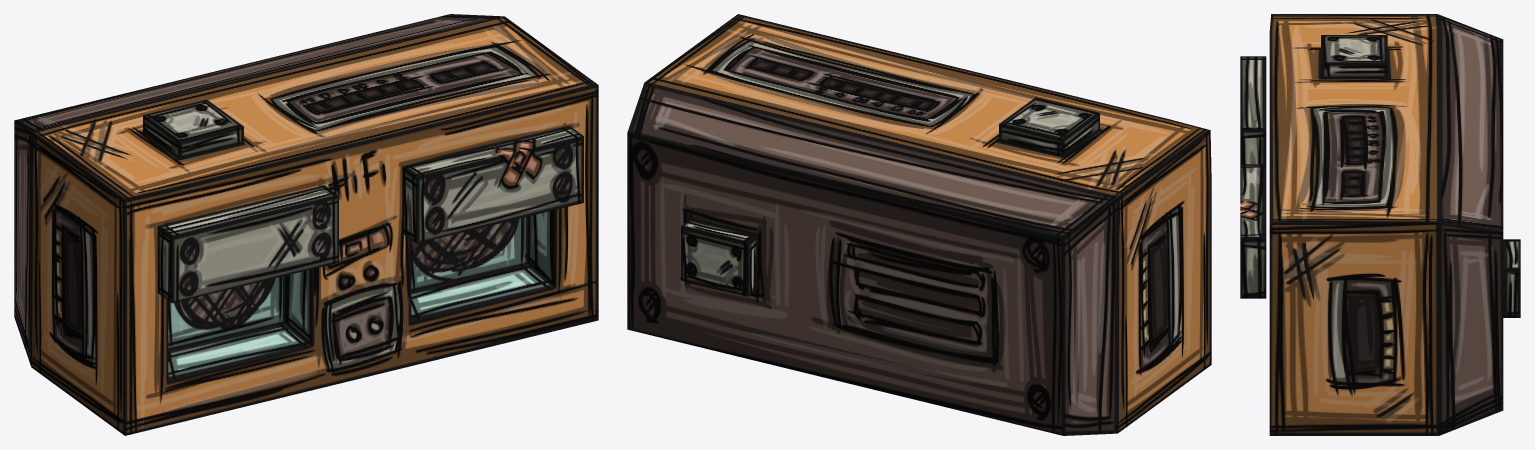
Rendered from HiFiHeadModel.FBX.
3 renders of one model, left to right at view 1: azimuth 30°, elevation 25°; view 2: azimuth 150°, elevation 25°; view 3: azimuth 270°, elevation 25°, orthographic. The views are drawn at different scales.
Parts seen in each view (by area): view 1: Head; view 2: Head; view 3: Head.
Boxes of the visible parts, box(x1,y1,x2,y2) form: Head: box(14, 14, 598, 435); Head: box(627, 14, 1211, 435); Head: box(1240, 14, 1520, 435).
Size of the model in its own units: 144 by 73.24 by 81.38.
